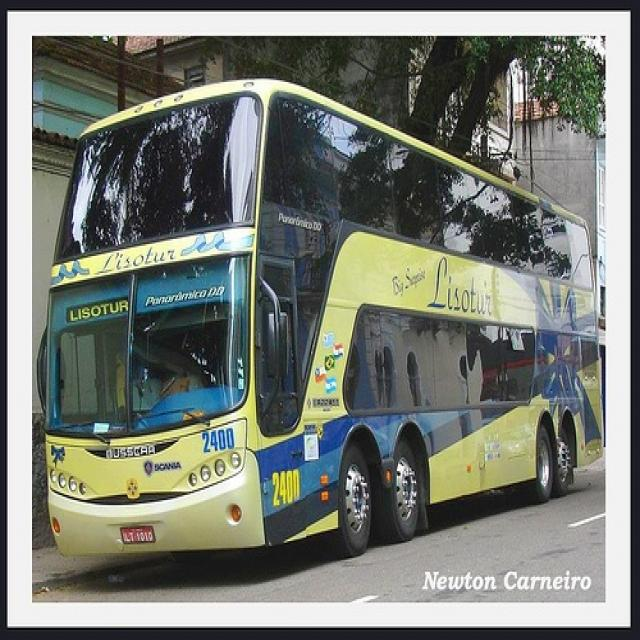bus: (37, 80, 603, 551)
